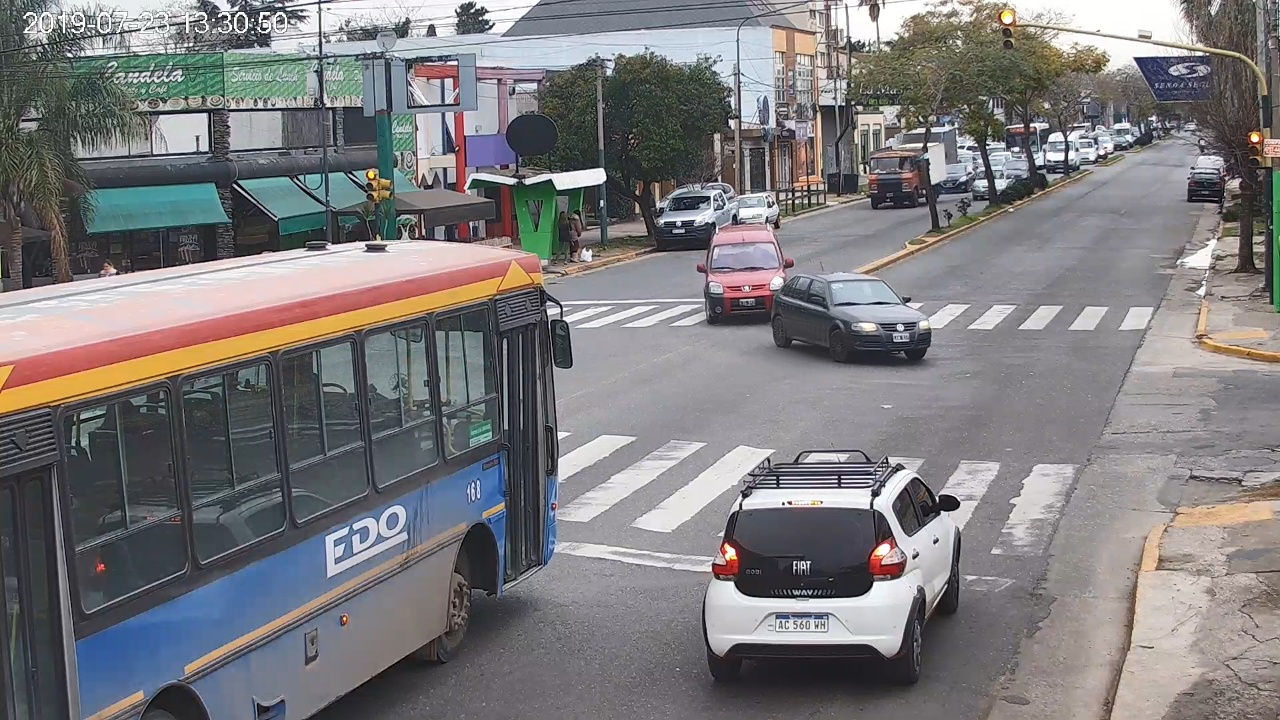bus: (5, 239, 576, 719)
car: (703, 451, 961, 685)
traffic light: (1000, 9, 1015, 49), (1248, 132, 1262, 167)
